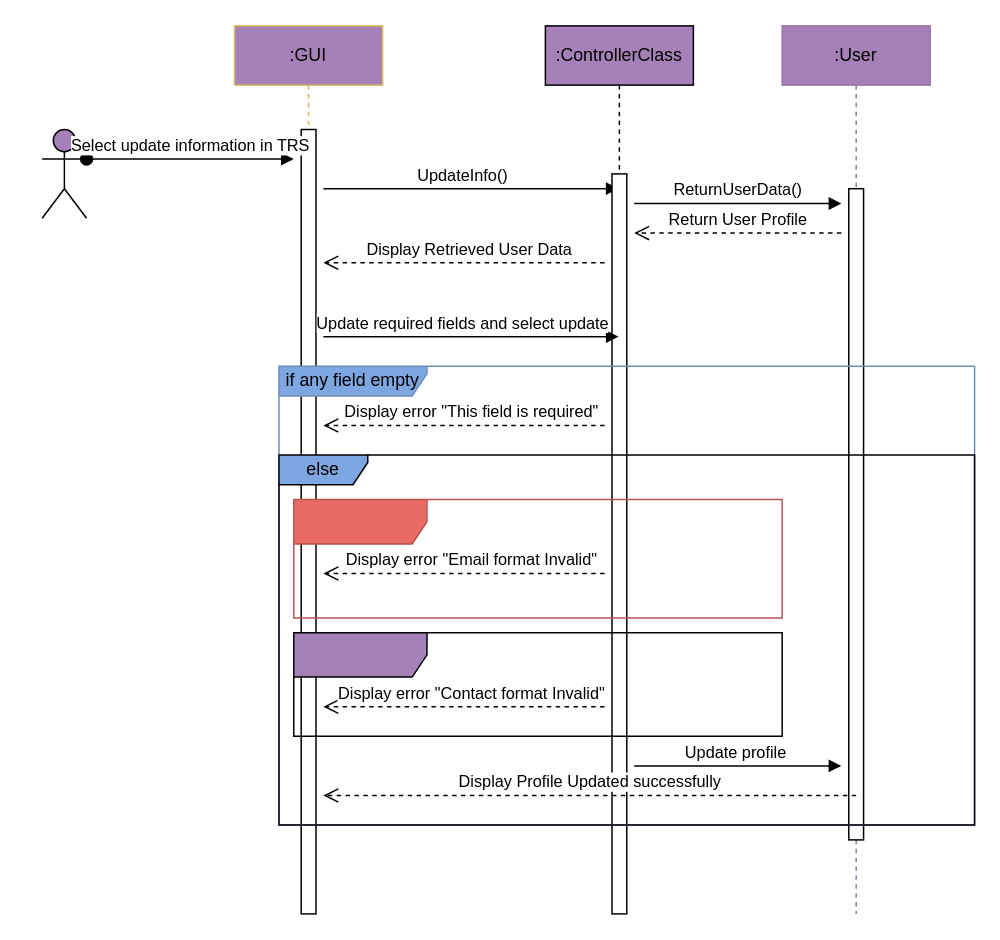
The diagram is 1000 pixels wide and 940 high, and some of its shapes have lost their labels. The shapes that lost their labels are listed below. From the top down, each one's centre as x and y in pixels, then its label:
At (x=64, y=173): "Customer".
At (x=537, y=558): "if email format invalid".
At (x=537, y=683): "if contact format invalid".
